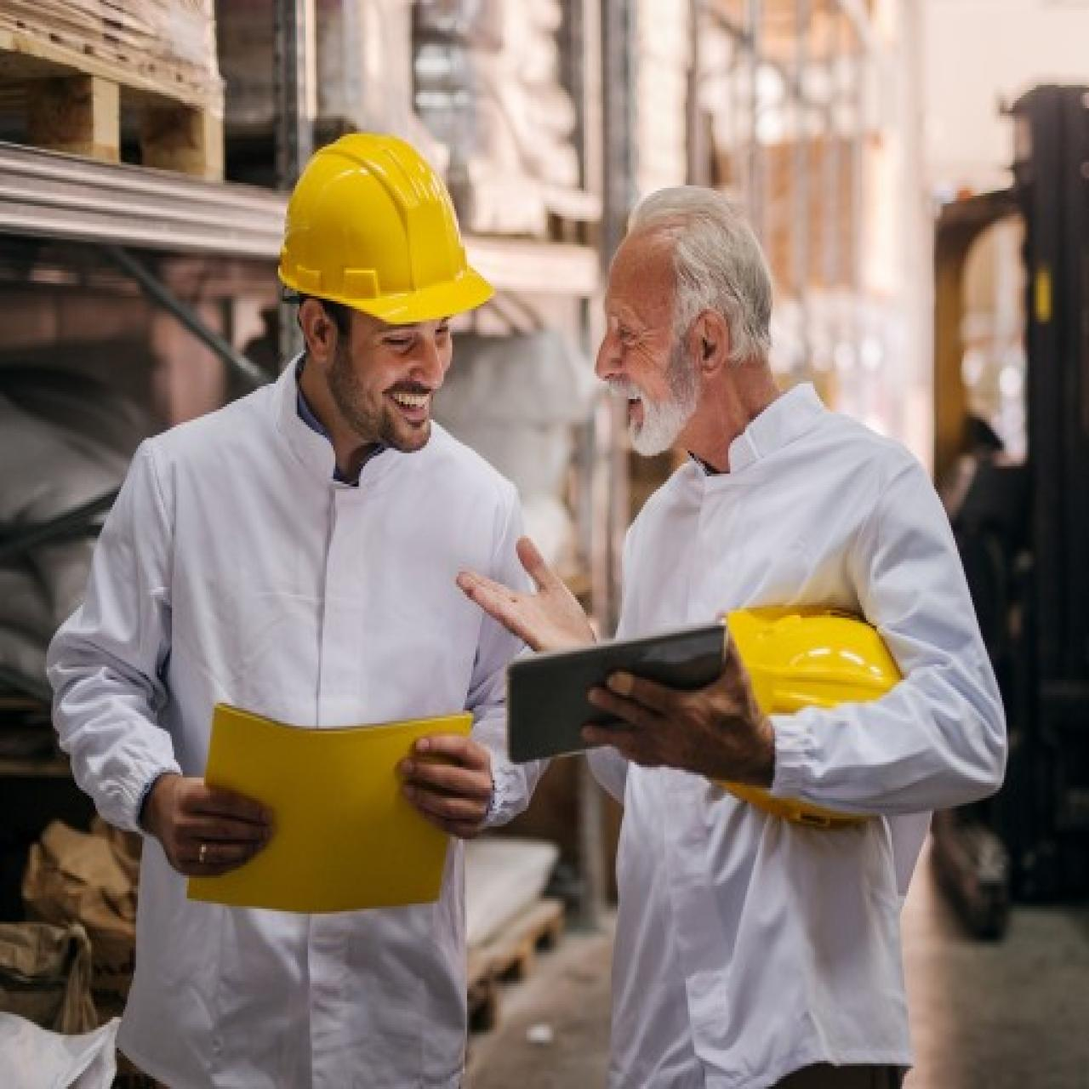NO_Safety_Vest: (148, 401, 490, 1036), (625, 445, 895, 1026)
Person: (45, 90, 563, 1089), (494, 173, 1013, 1089)
